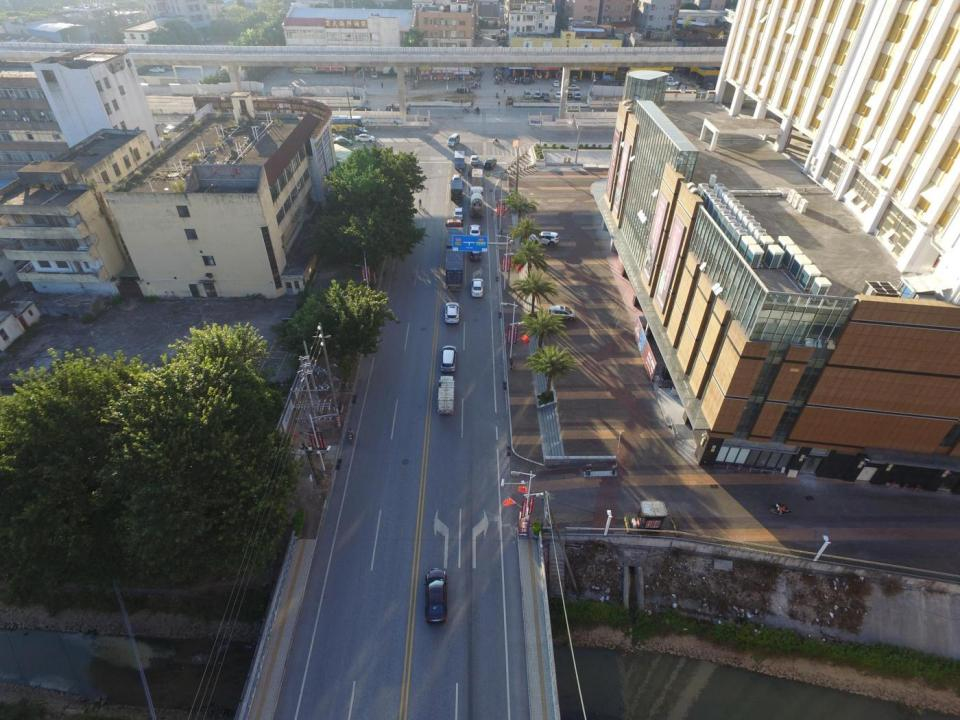bus: (310, 114, 364, 134)
car: (421, 567, 448, 623), (435, 342, 458, 373), (528, 231, 560, 247), (547, 305, 576, 321), (444, 301, 460, 324), (469, 277, 486, 298), (346, 126, 370, 137), (354, 133, 375, 143), (470, 244, 482, 261), (325, 132, 343, 143), (468, 224, 481, 239), (453, 206, 464, 222), (334, 137, 352, 146), (353, 105, 371, 114), (484, 157, 497, 169), (148, 67, 164, 74), (470, 154, 480, 165), (567, 84, 580, 91), (665, 80, 680, 86), (541, 92, 551, 101), (555, 91, 562, 100), (552, 80, 561, 86), (567, 92, 573, 100)
truck: (445, 218, 462, 292), (437, 374, 456, 416), (468, 185, 486, 218), (450, 174, 463, 202), (385, 102, 411, 115), (453, 150, 466, 170), (471, 169, 484, 188)
van: (563, 103, 581, 114), (447, 132, 460, 146), (522, 89, 530, 99), (370, 70, 380, 78), (533, 90, 540, 99)
